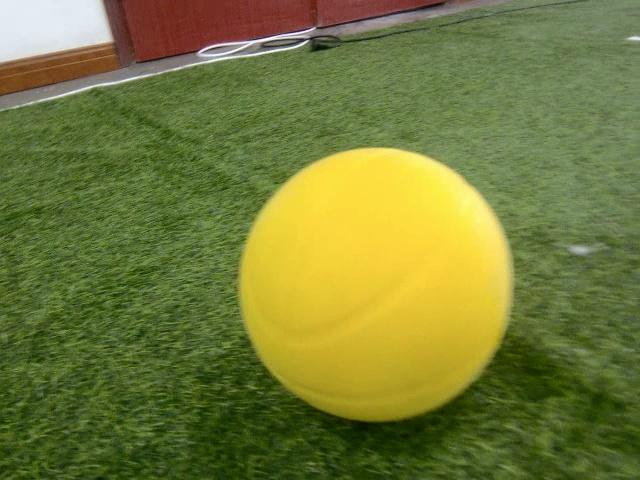yellow_ball: (234, 144, 518, 423)
